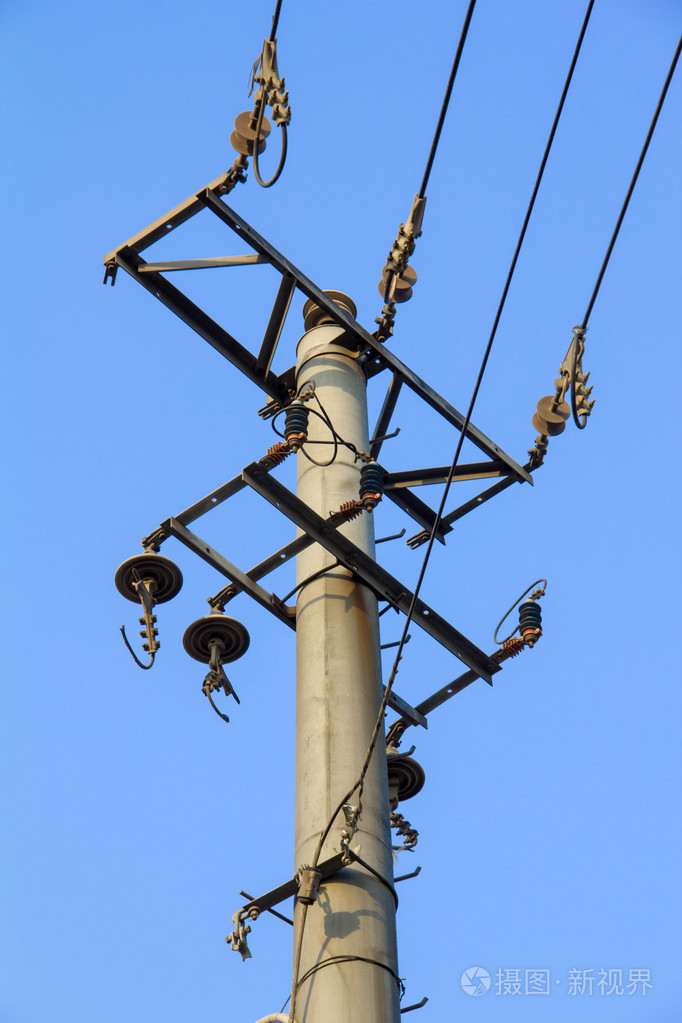insulator: (299, 289, 359, 332), (229, 112, 276, 156), (378, 262, 421, 305), (525, 397, 569, 439)
